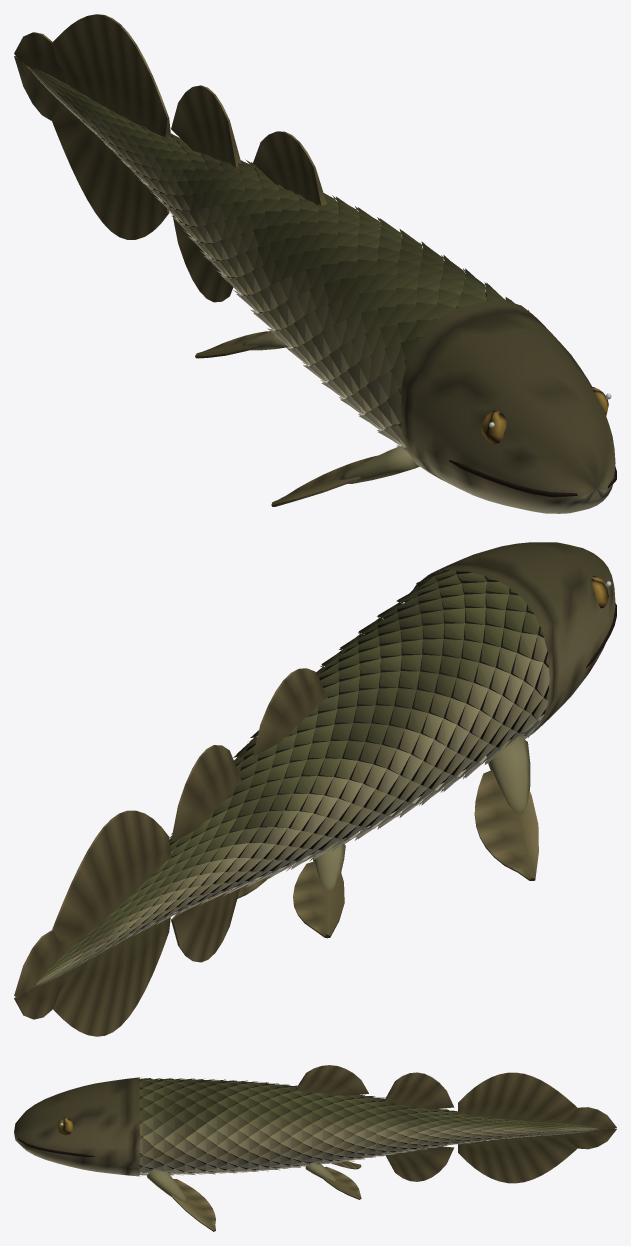
The model's file is Eusthenopteron.fbx.
The picture shows the model from 3 angles, top to bottom: view 1: azimuth 30°, elevation 25°; view 2: azimuth 150°, elevation 25°; view 3: azimuth 270°, elevation 25°; orthographic projection. The views are drawn at different scales.
Visible parts, largest first — view 1: Eusthenopteron; view 2: Eusthenopteron; view 3: Eusthenopteron.
Boxes of the visible parts, box(x1,y1,x2,y2) form: Eusthenopteron: box(14, 14, 616, 513); Eusthenopteron: box(14, 542, 616, 1036); Eusthenopteron: box(14, 1065, 616, 1231).
Bounding box in the file's own units: 0.4275 × 0.3996 × 1.63.
